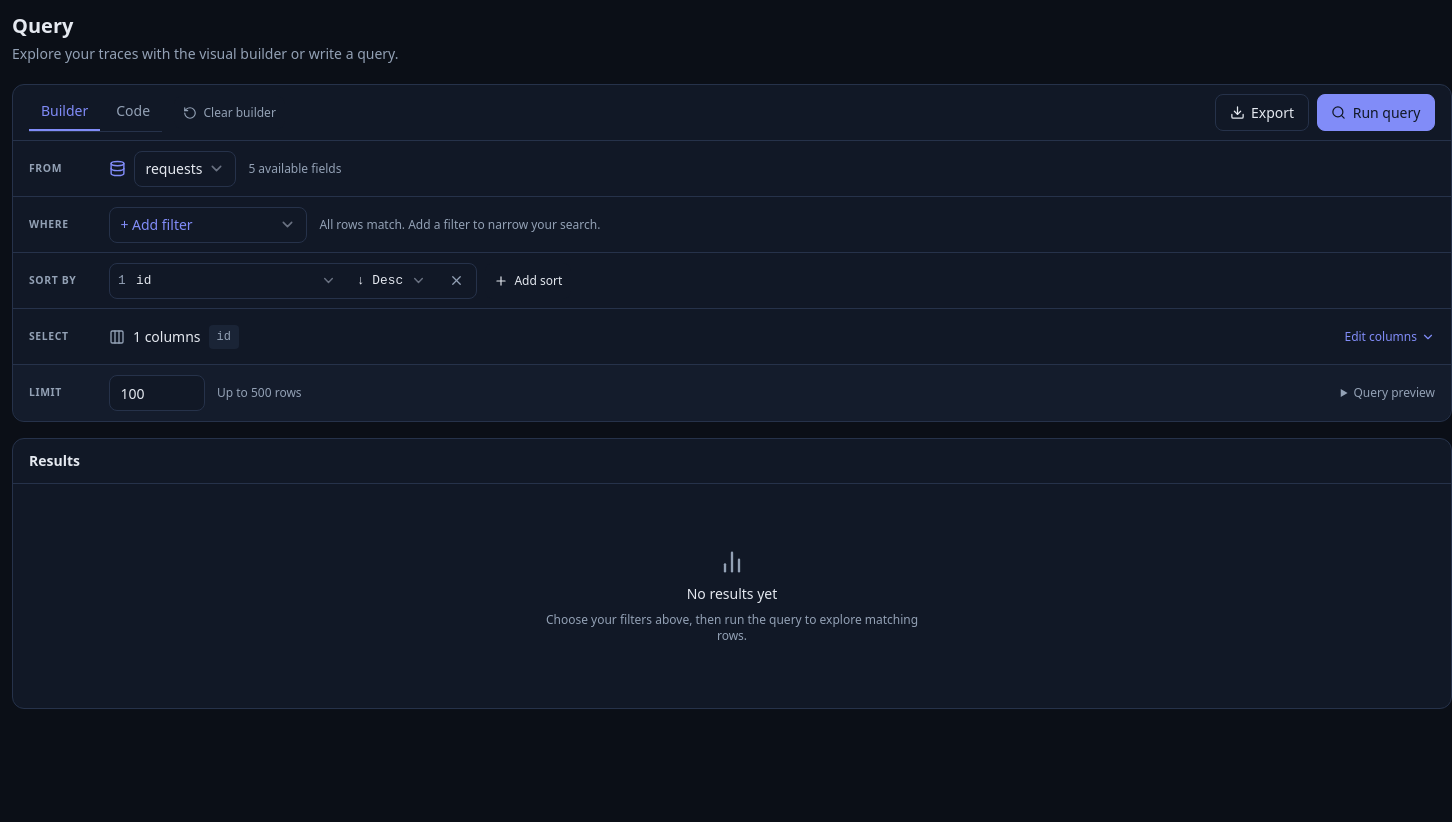
Test: blocks invalid row limit 0 before sending the query
This screenshot has width=1452, height=822.
Check: the tab "Builder" is shown, box [29, 93, 100, 131]
Replace the text in the number field labelled "Limit" with "0" at (157, 393), box [109, 375, 205, 411]
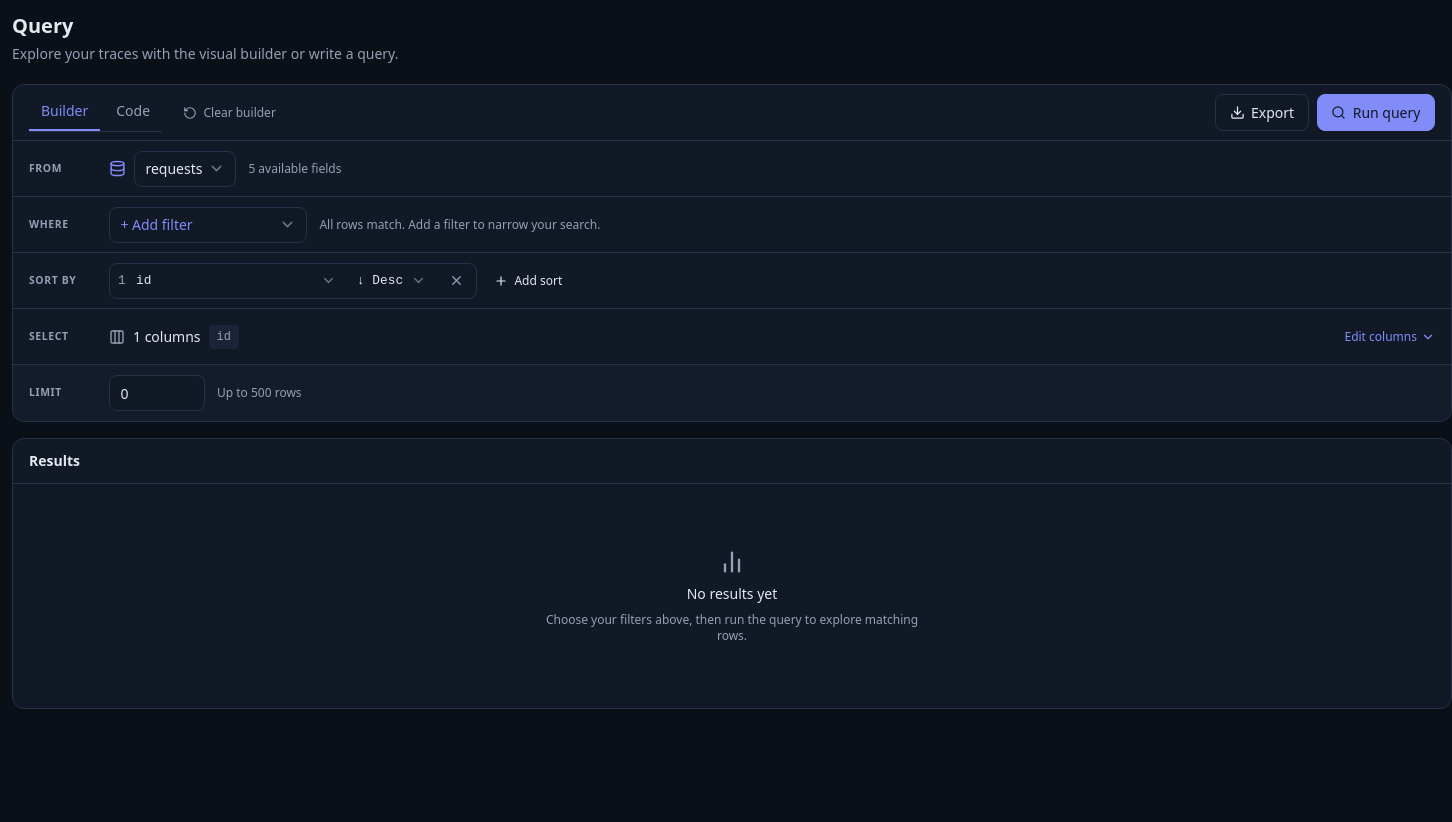
Click the button "Run query" at (1376, 112), box [1317, 94, 1435, 131]
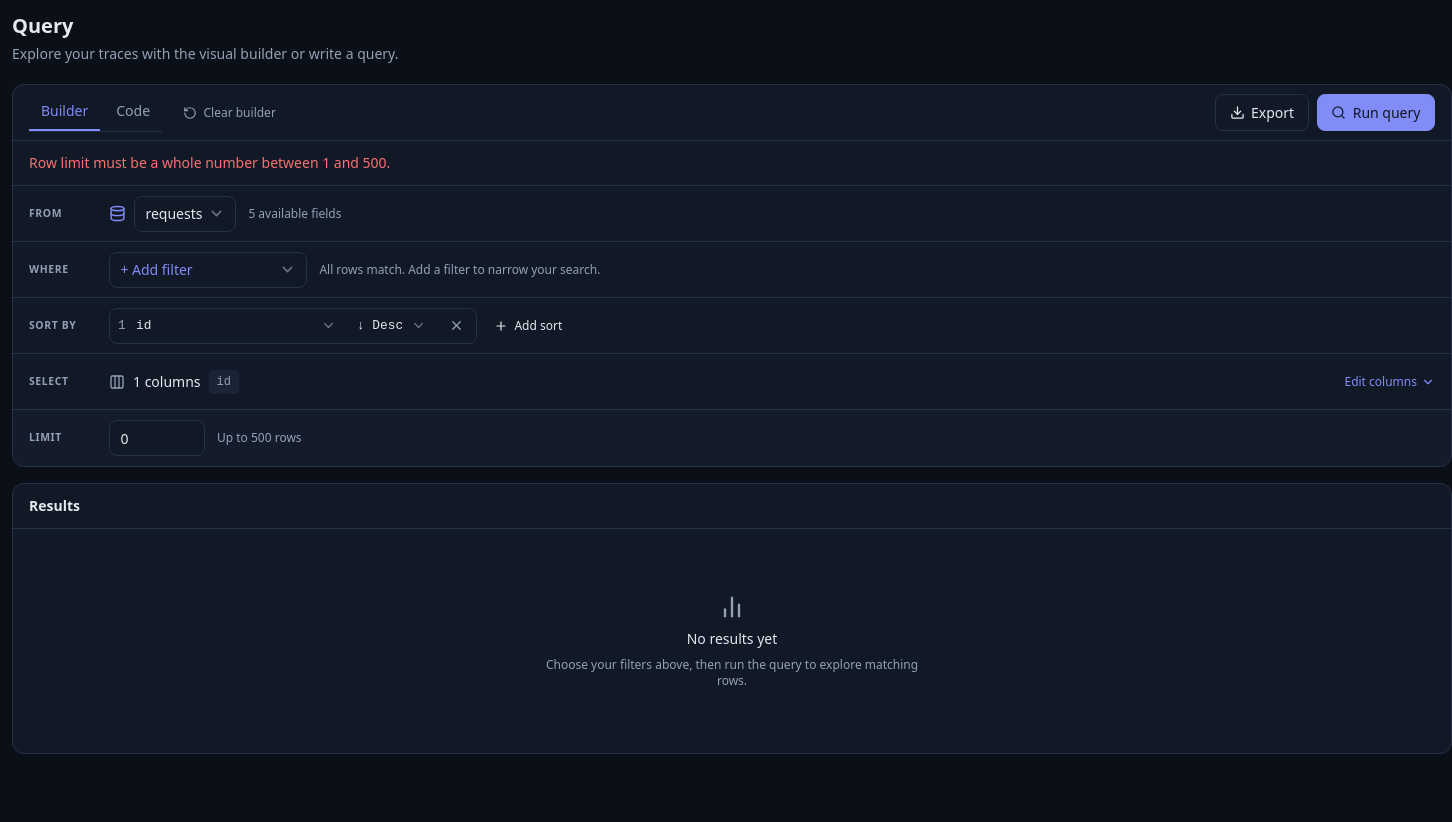
Check: the message "Row limit must be a whole number between 1 and 500." is shown, box [13, 141, 1451, 186]
